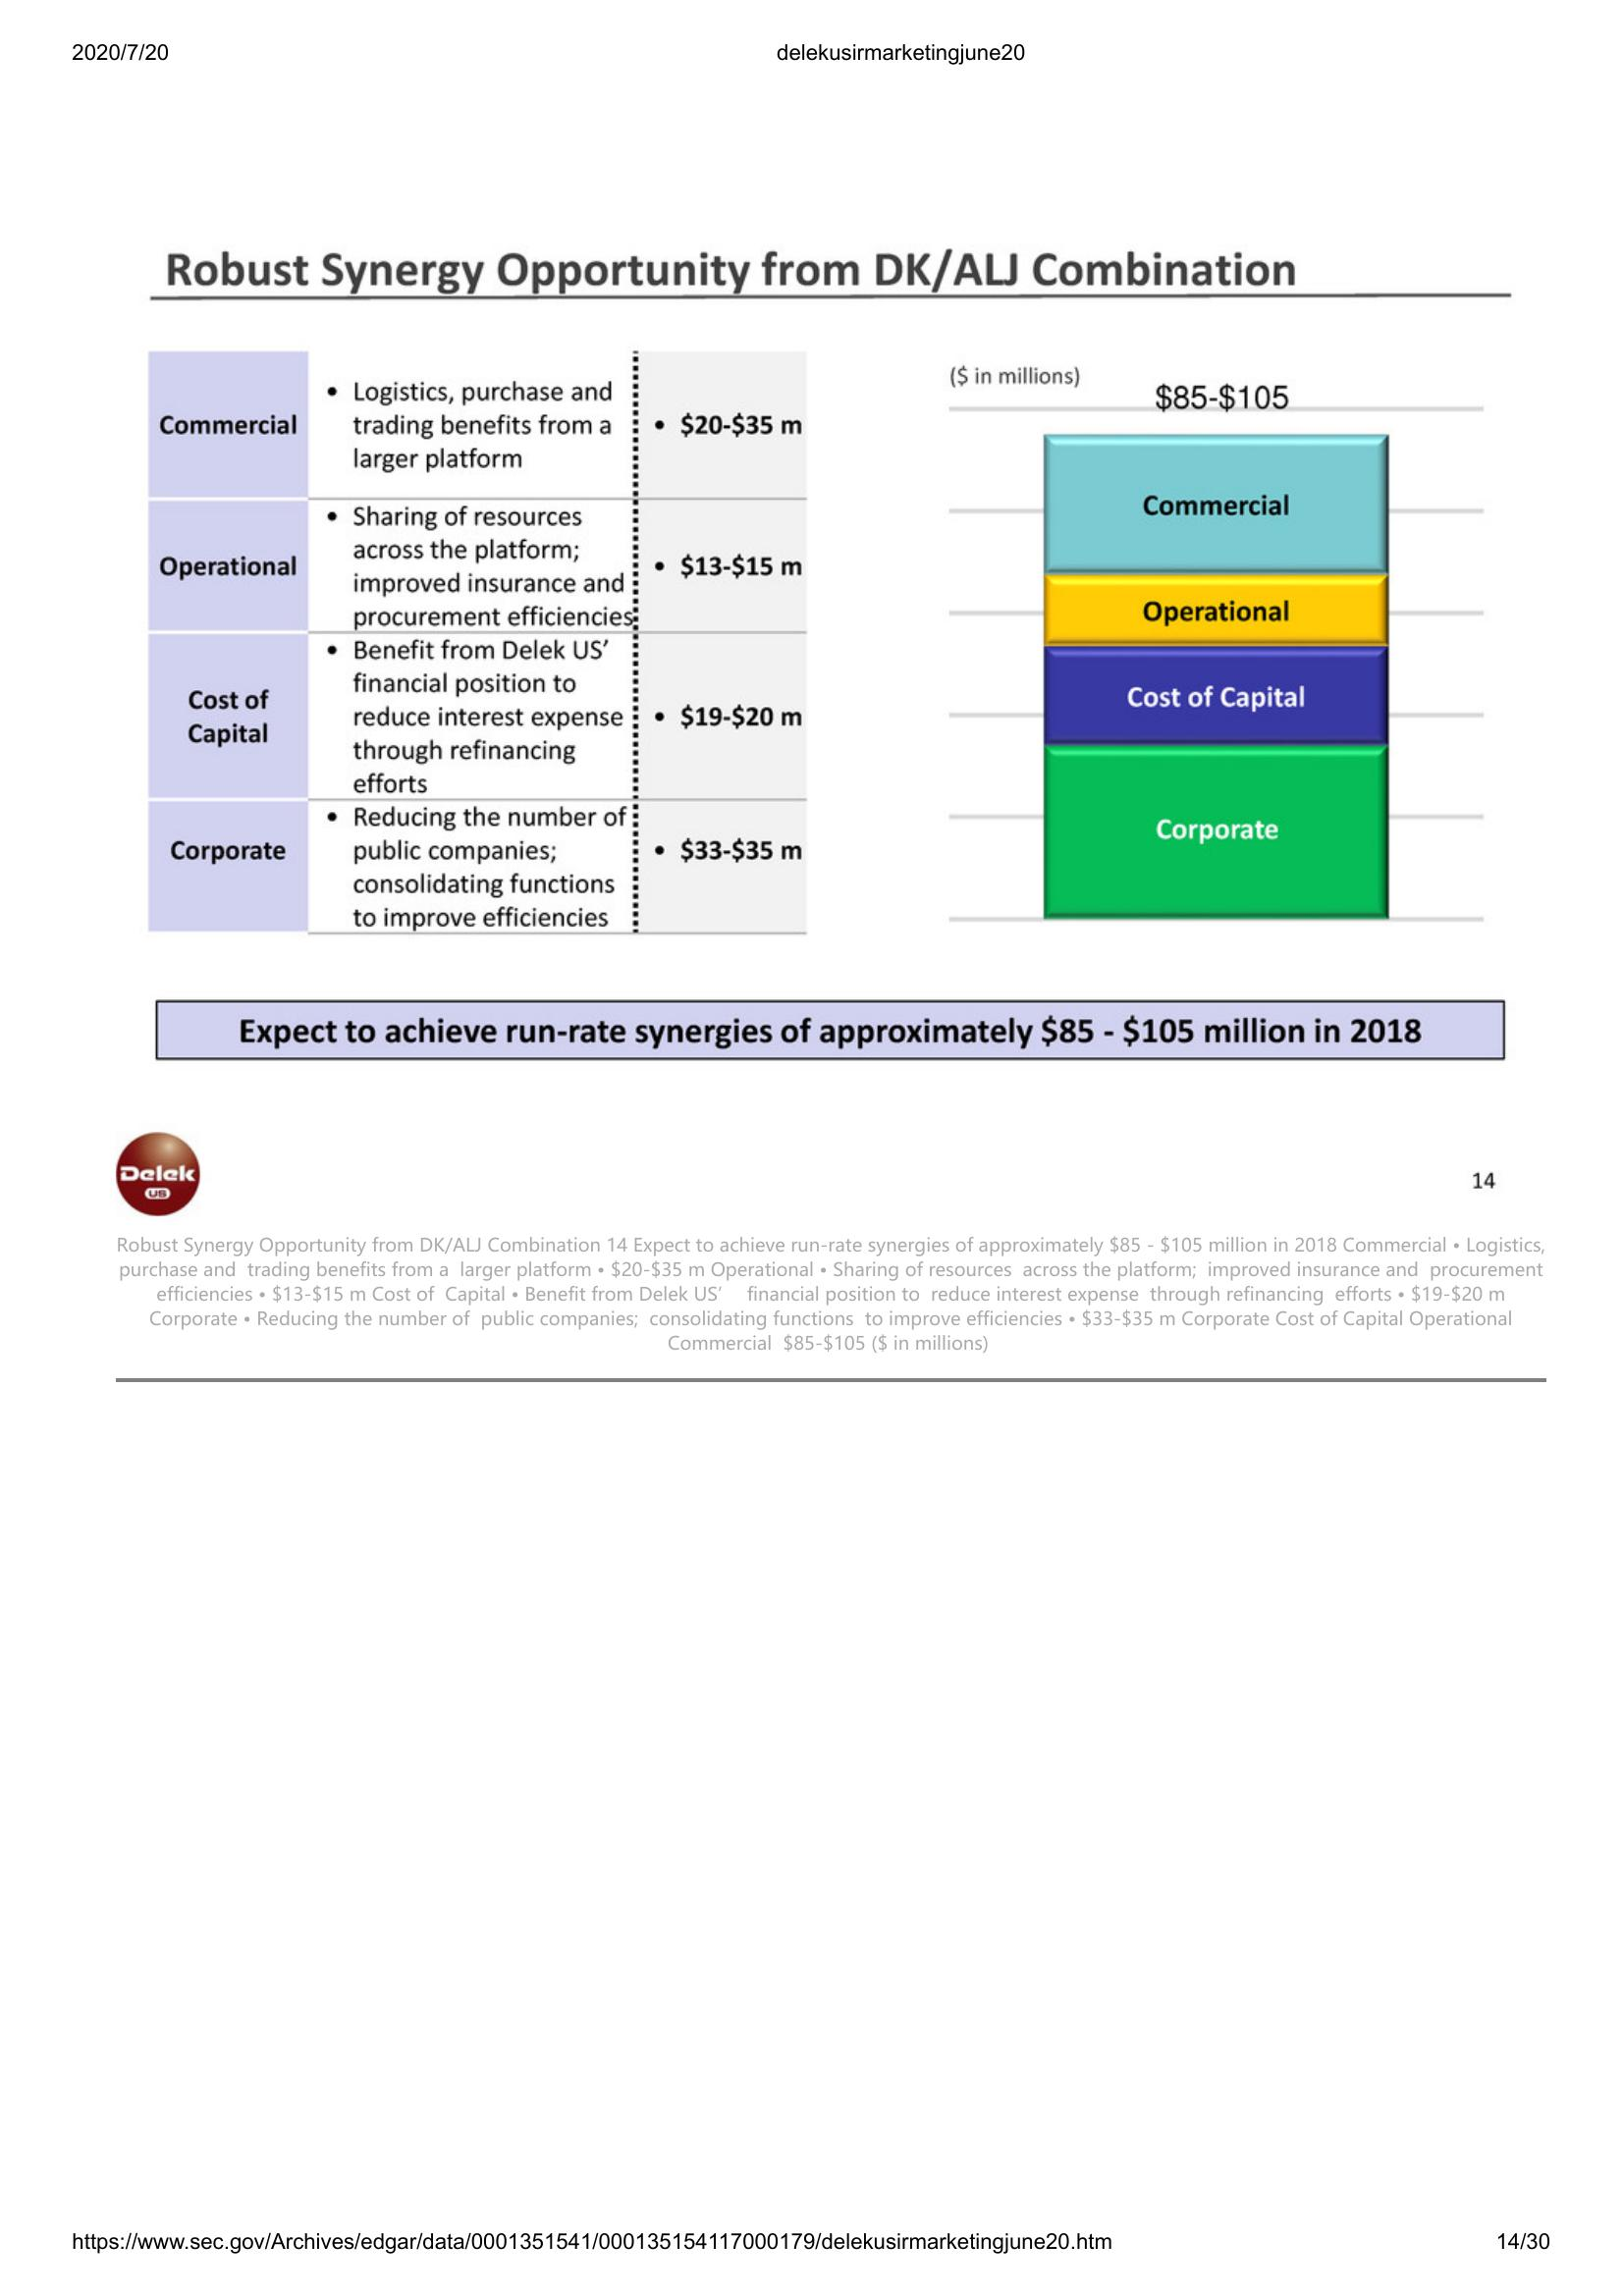table: (144, 339, 815, 934)
